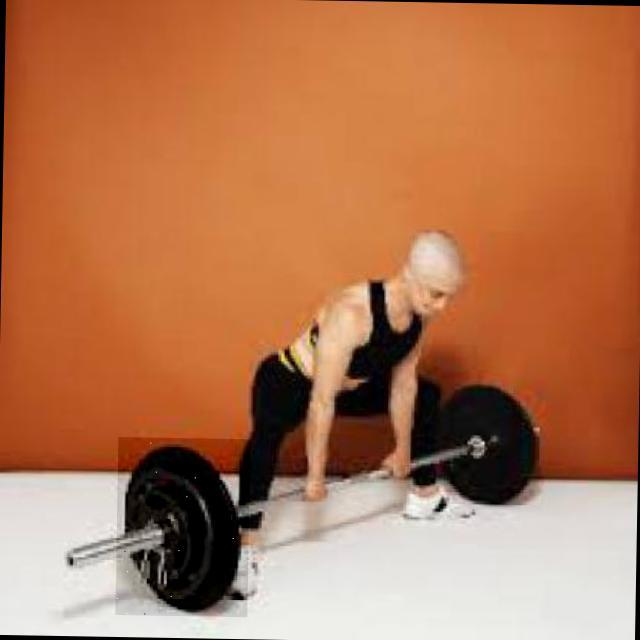barbell: (116, 438, 251, 618)
